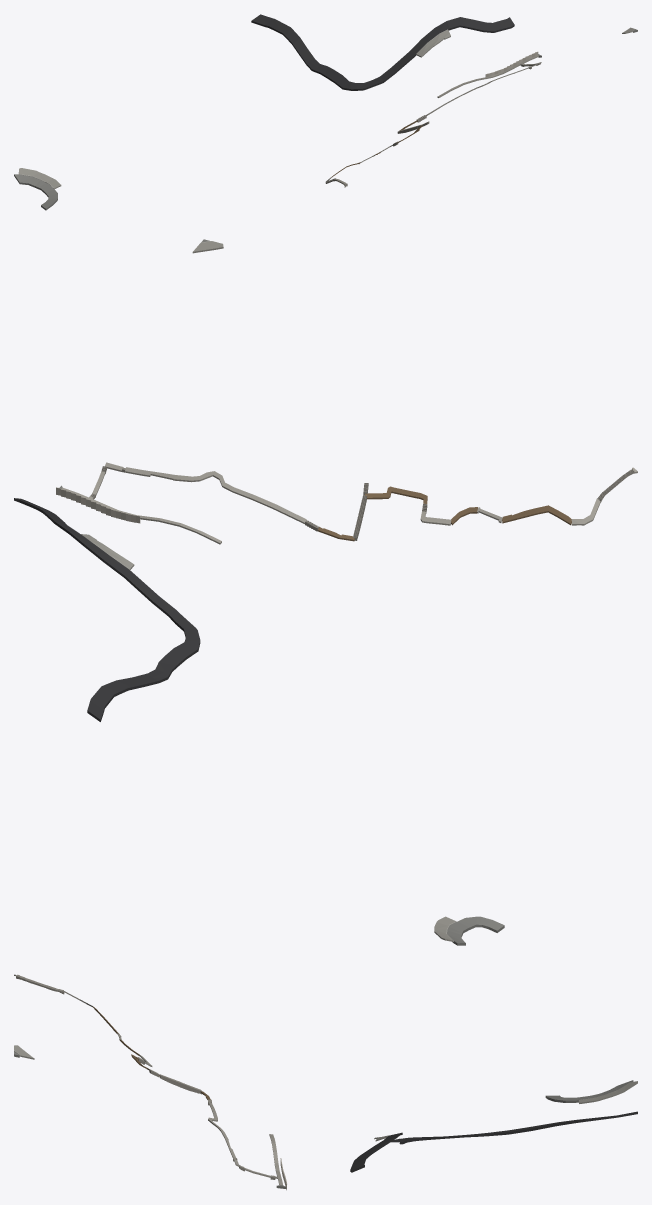
3 renders of one model, top to bottom at view 1: azimuth 30°, elevation 25°; view 2: azimuth 150°, elevation 25°; view 3: azimuth 270°, elevation 25°, orthographic. The views are drawn at different scales.
Bounding box in the file's own units: 293 × 159 × 292.
